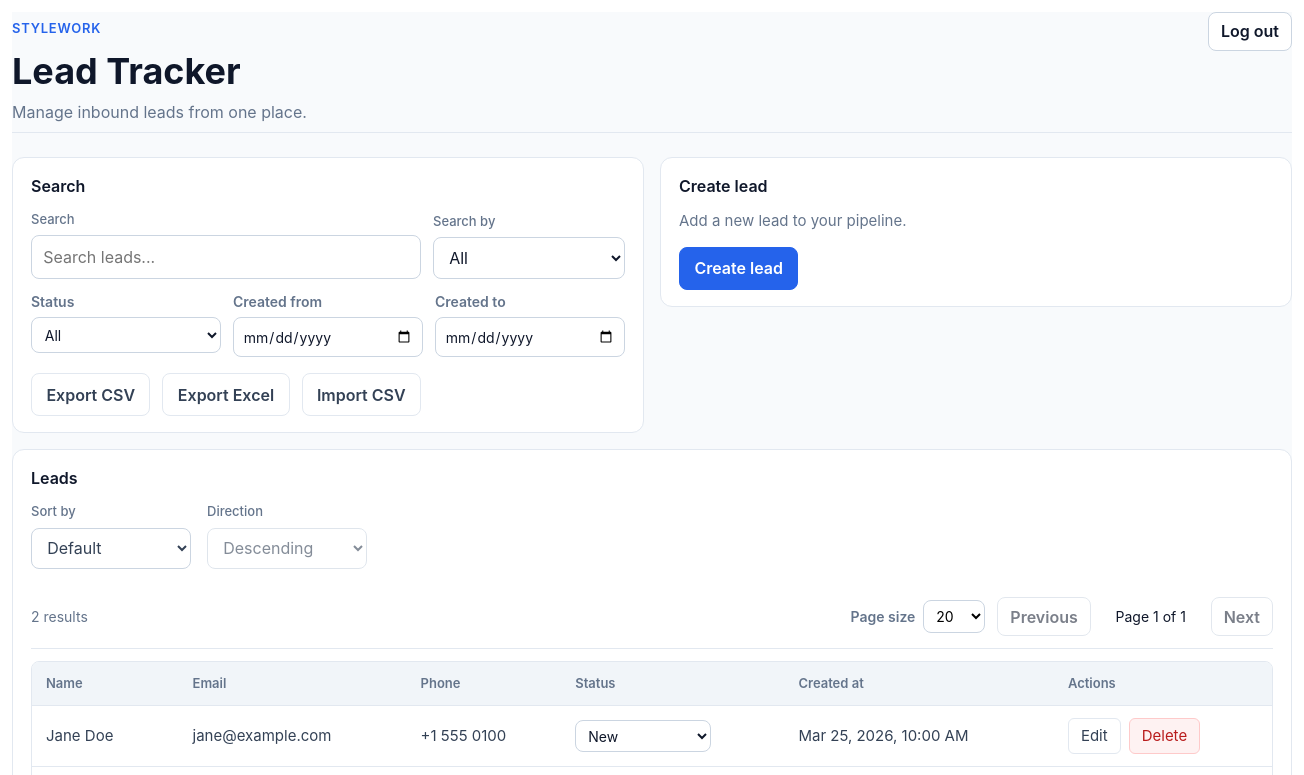
Test: LeadTrackerPage › status update › does not silently change the displayed status when the update fails
The image size is (1304, 775).
Expected: the text "Jane Doe" is shown, [32,706,178,767]
Select "Qualified" in the dropdown named "Status for Jane Doe" in the row of "Jane Doe" at (643, 736), box [575,720,711,752]
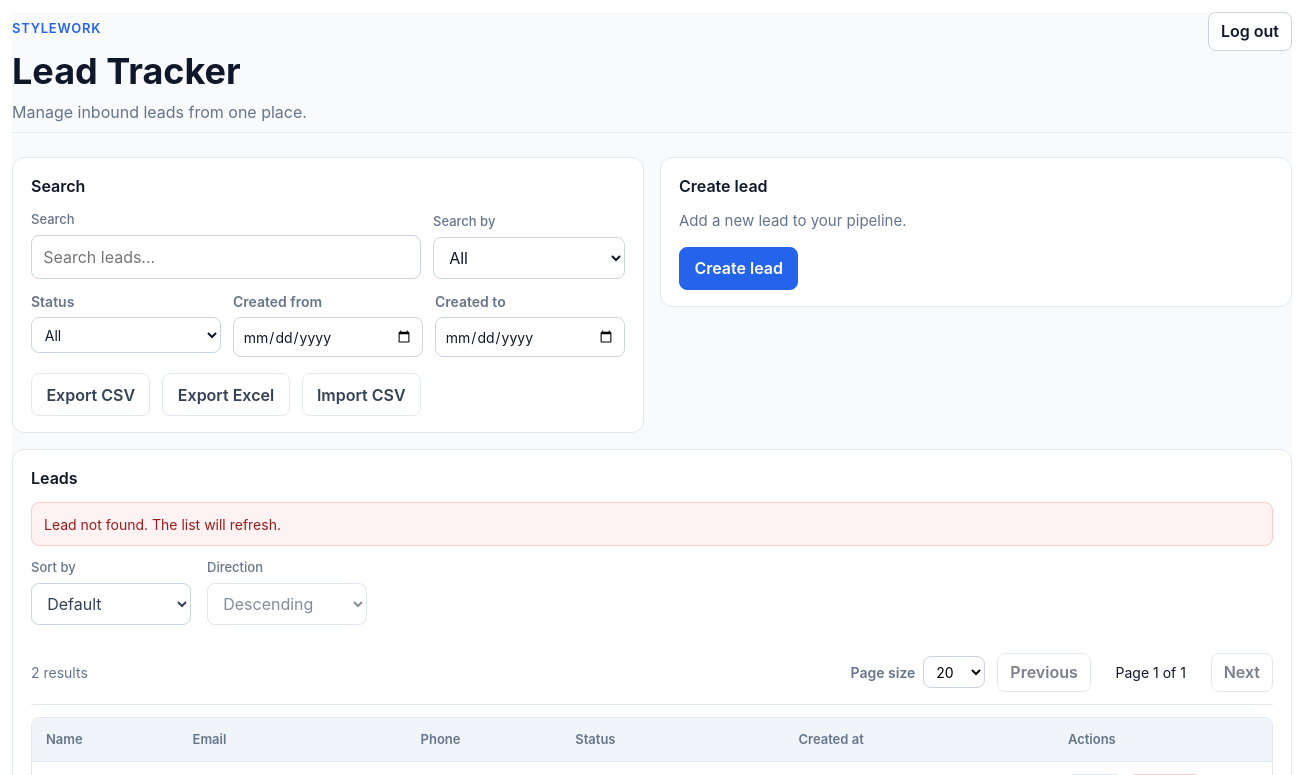
Now the text "Lead not found. The list will refresh." is shown, box [31,502,1273,546]
